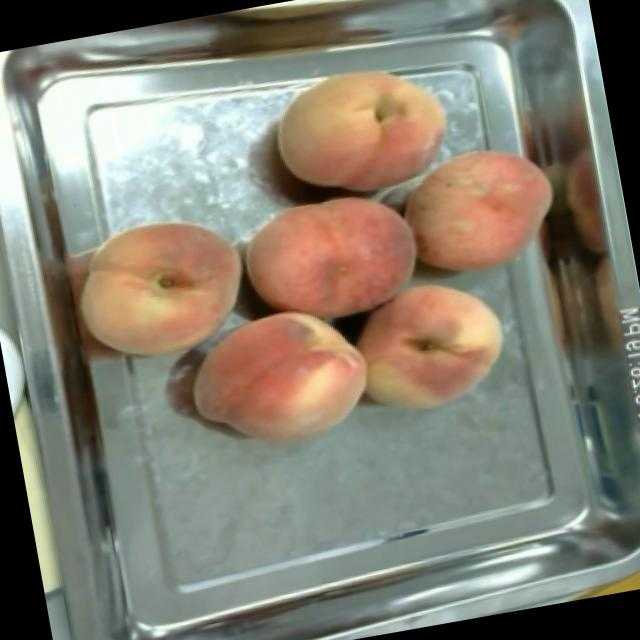Fruit: (175, 288, 385, 468), (256, 42, 469, 215), (61, 198, 262, 378), (229, 174, 433, 340), (338, 264, 522, 428), (392, 130, 563, 292)
